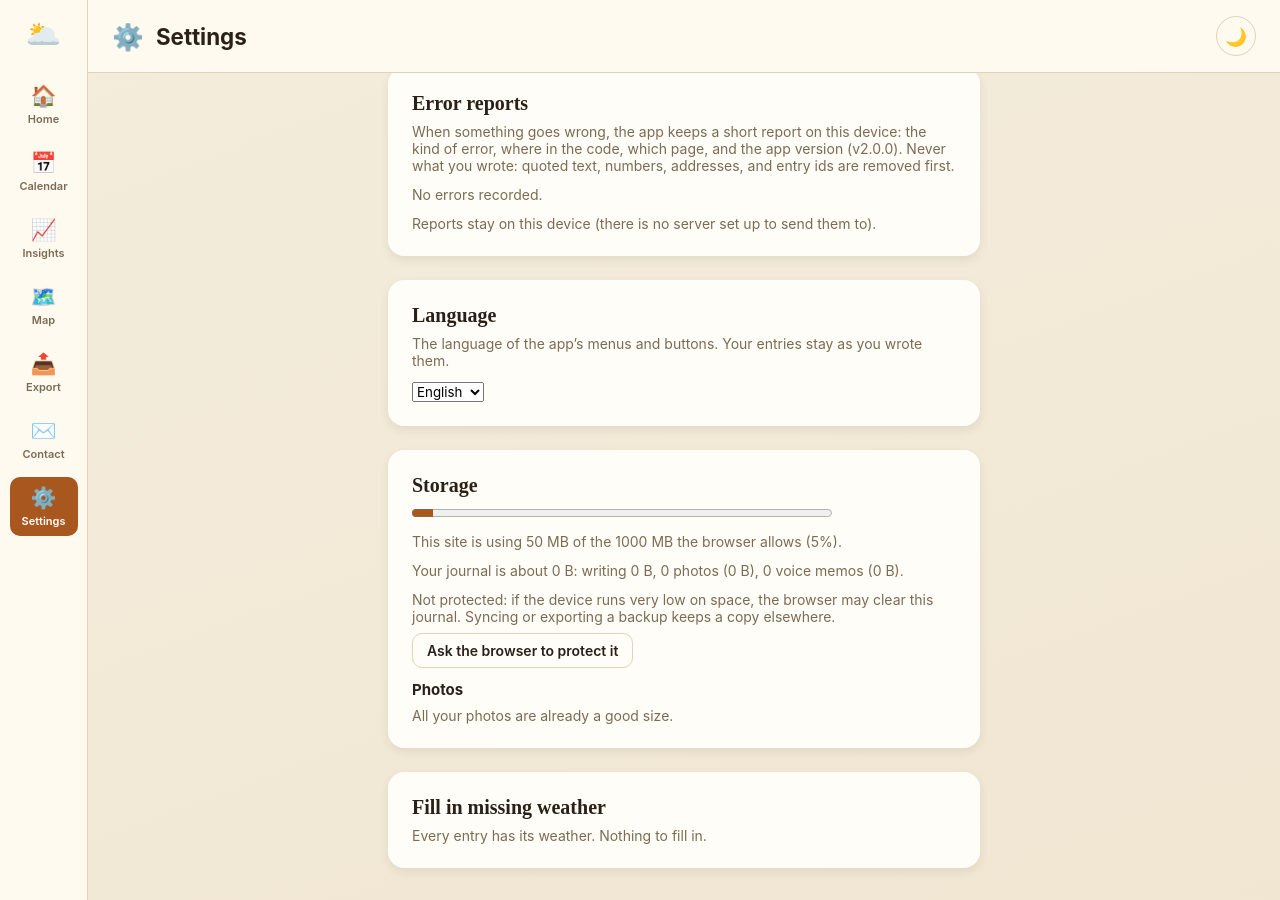
it: Storage settings › says plainly when the browser declines to protect it
(page scrolled)
Click the button "Ask the browser to protect it" at (523, 650), box [412,633,633,668]
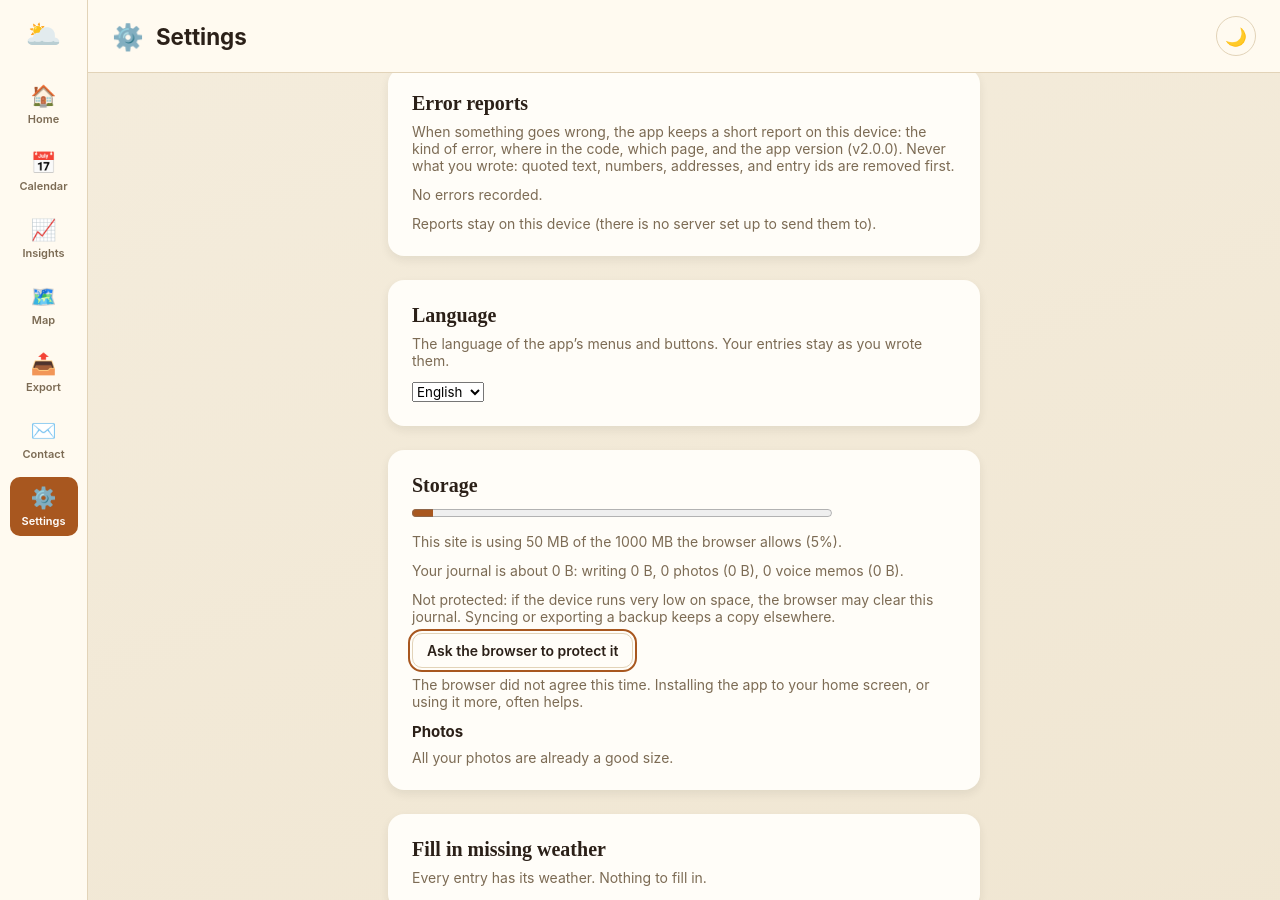
Expected: the text "Not protected" is shown, [412,591,933,625]
Expected: the text "did not agree this time" is shown, [412,676,930,710]
